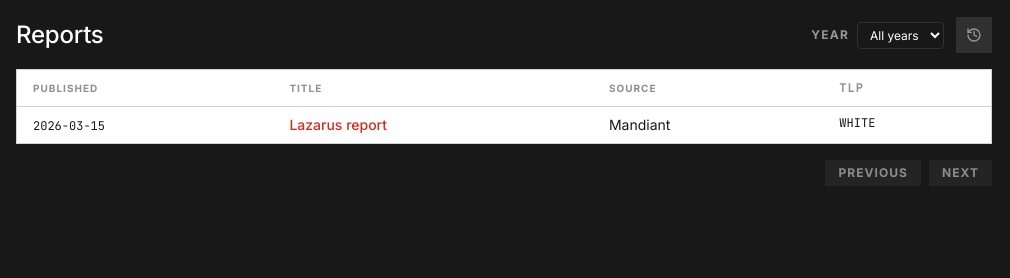
it: ReportsPage › toggling view mode swaps ListTable for ReportTimeline (single fetch)
Check: the link "Lazarus report" is shown, box x1=289 y1=116 x2=387 y2=133
Click the button with test id "reports-view-mode-toggle": (974, 35) x1=956 y1=17 x2=992 y2=53
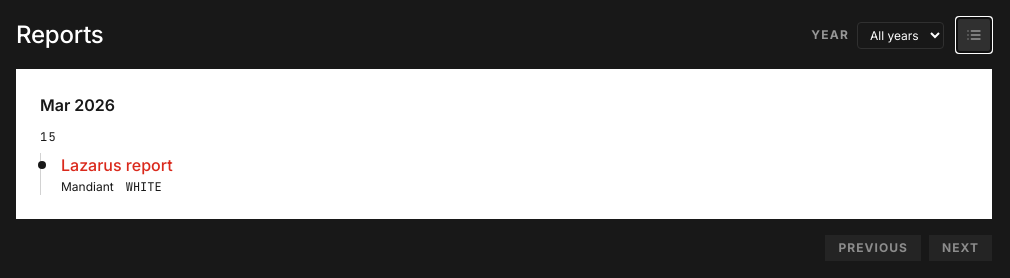
Check: the text "Reports list" is not shown
Check: the list with test id "reports-timeline" is shown, box x1=16 y1=69 x2=992 y2=219
